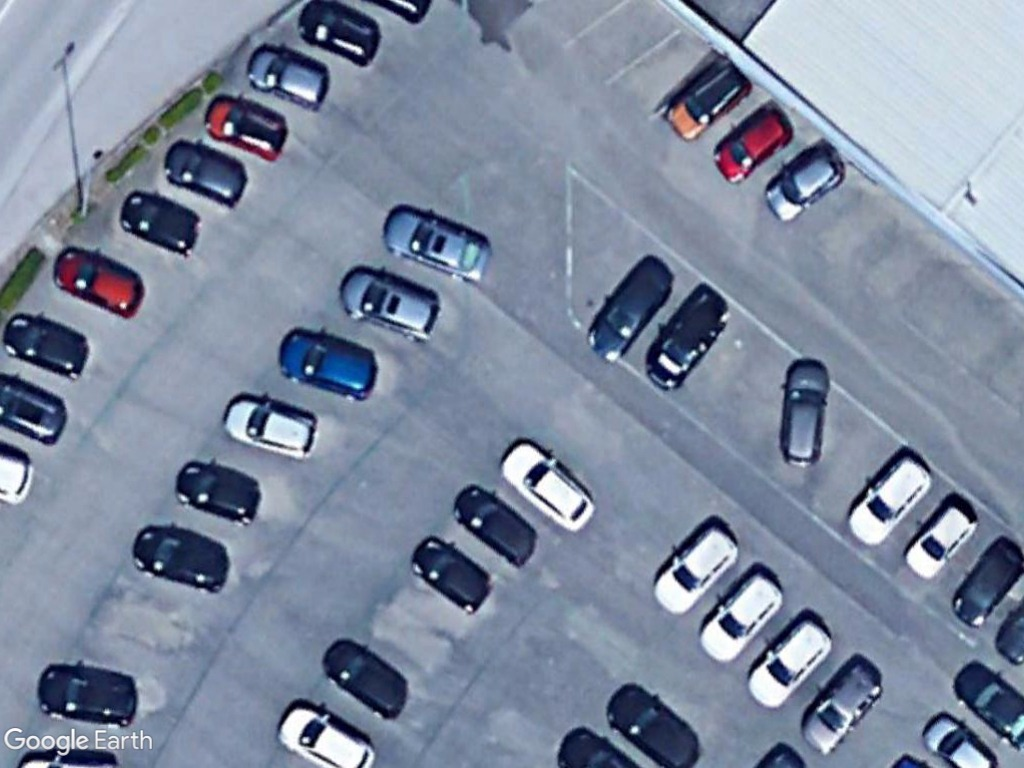car: (583, 256, 685, 366), (495, 437, 597, 535), (379, 204, 496, 288), (641, 285, 731, 393), (648, 520, 741, 621), (696, 567, 785, 669), (744, 616, 836, 712), (334, 265, 444, 345), (272, 326, 381, 406), (796, 657, 882, 758), (603, 682, 703, 768), (318, 634, 414, 723), (446, 480, 540, 568), (845, 453, 932, 547), (48, 244, 148, 324), (405, 533, 498, 617), (663, 61, 755, 144), (128, 521, 231, 594), (32, 662, 142, 729), (710, 106, 802, 186), (199, 88, 292, 166), (270, 702, 378, 768), (216, 394, 322, 461), (945, 536, 1022, 628), (759, 146, 847, 223), (117, 188, 208, 261), (0, 306, 92, 378), (242, 42, 333, 112), (900, 501, 976, 584), (172, 457, 264, 525), (776, 360, 832, 470), (295, 0, 384, 67), (162, 140, 248, 209)
